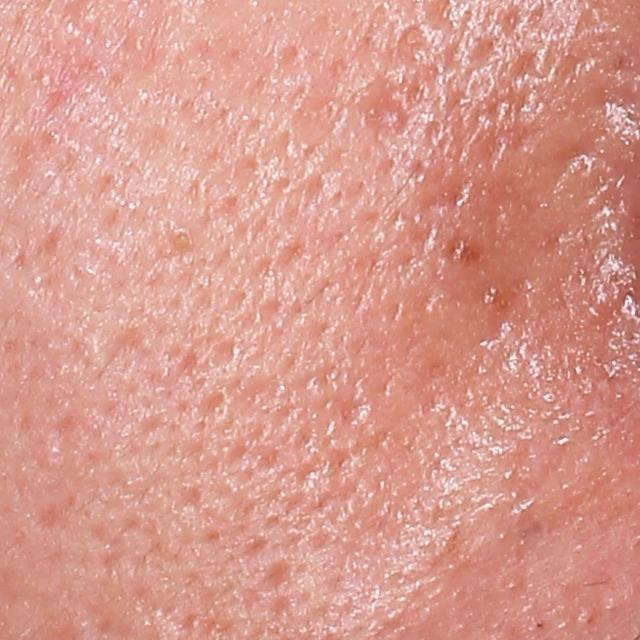atrophic_scar: (355, 96, 406, 140), (271, 236, 316, 283), (257, 551, 300, 593), (103, 325, 143, 363), (28, 496, 63, 534)
comedo: (167, 226, 197, 255)
